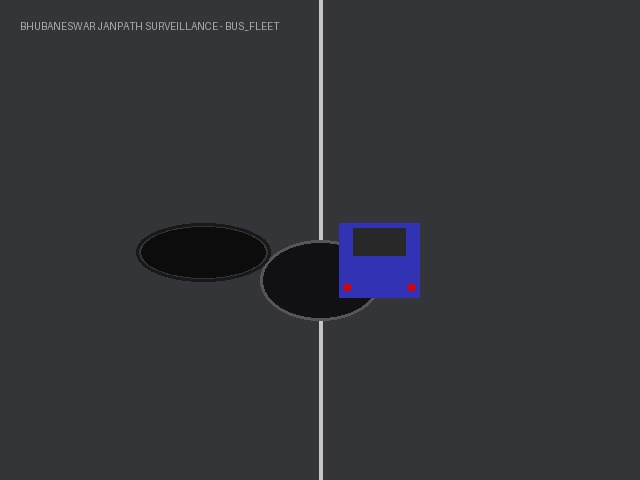pothole: (141, 227, 265, 277)
vehicle: (339, 223, 419, 298)
